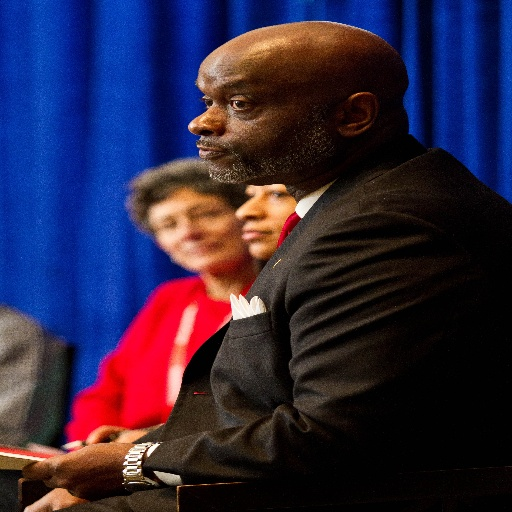hand: (5, 432, 180, 508), (23, 487, 87, 511), (87, 423, 145, 444)
